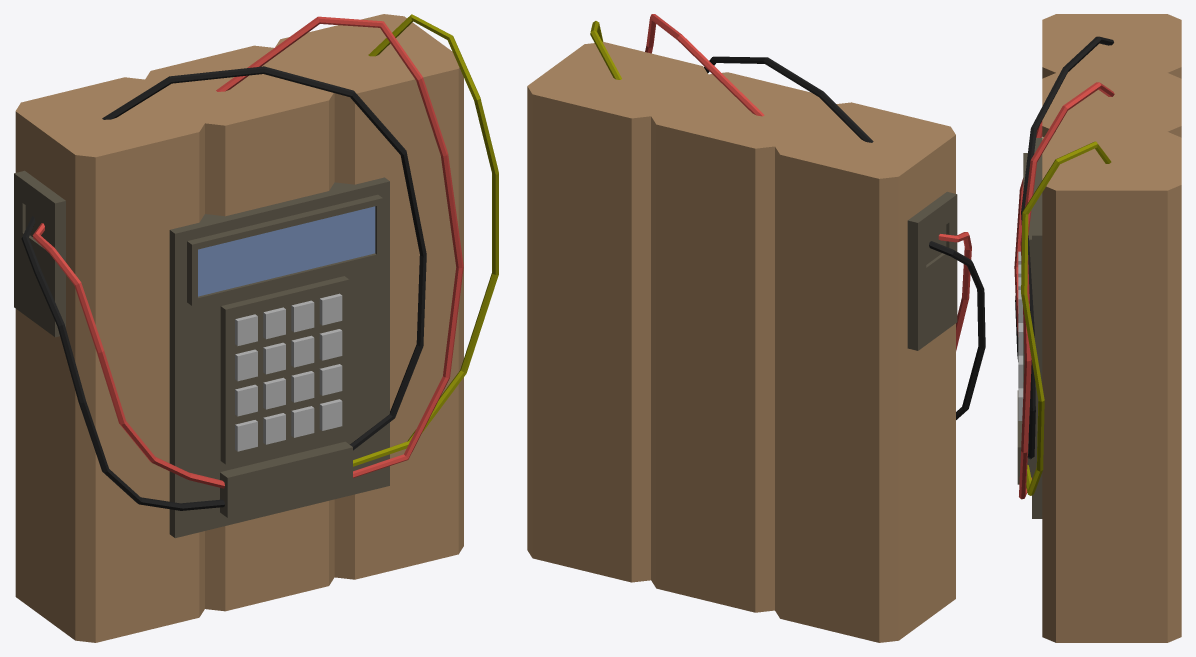
The picture shows the model from 3 angles, left to right: view 1: azimuth 30°, elevation 25°; view 2: azimuth 150°, elevation 25°; view 3: azimuth 270°, elevation 25°; orthographic projection. The views are drawn at different scales.
Visible parts, largest first — view 1: C4_2; view 2: C4_2; view 3: C4_2.
Part boxes in pixels (x1,y1,x2,y2): C4_2: (14,14,498,642); C4_2: (527,14,985,642); C4_2: (1014,14,1181,642).
Bounding box in the file's own units: 0.2053 × 0.2393 × 0.0718.
